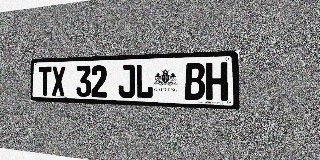2: (91, 65, 107, 97)
3: (76, 65, 91, 97)
B: (185, 63, 205, 100)
H: (206, 62, 228, 101)
J: (118, 64, 135, 98)
L: (136, 64, 153, 99)
T: (39, 66, 52, 96)
X: (52, 66, 65, 96)
